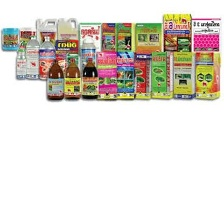insecticide: (160, 8, 193, 70), (189, 16, 221, 71), (133, 20, 166, 68), (193, 50, 222, 104), (92, 49, 121, 102), (145, 50, 176, 99), (170, 50, 197, 101), (130, 49, 155, 100), (77, 19, 101, 66), (113, 48, 135, 98), (53, 37, 81, 75), (114, 20, 137, 66), (44, 58, 66, 104), (37, 33, 57, 81), (56, 16, 80, 56), (79, 56, 100, 101), (34, 16, 58, 53), (100, 20, 119, 65), (24, 33, 42, 80), (65, 56, 81, 100), (79, 37, 97, 74), (16, 26, 38, 54), (0, 25, 21, 53), (62, 51, 80, 78), (14, 45, 27, 81)
